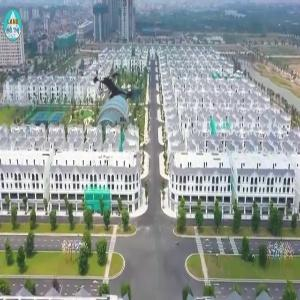drone: (75, 48, 151, 124)
